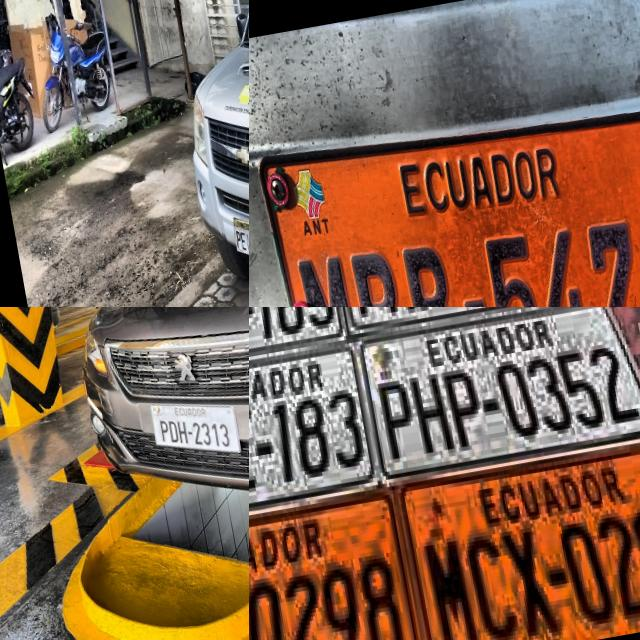license_plate: (255, 81, 640, 307), (249, 479, 420, 640), (148, 402, 244, 458), (231, 214, 249, 258)
